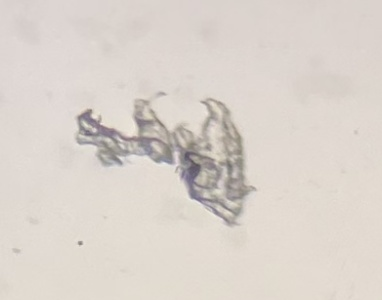microplastic: (74, 90, 257, 227)
